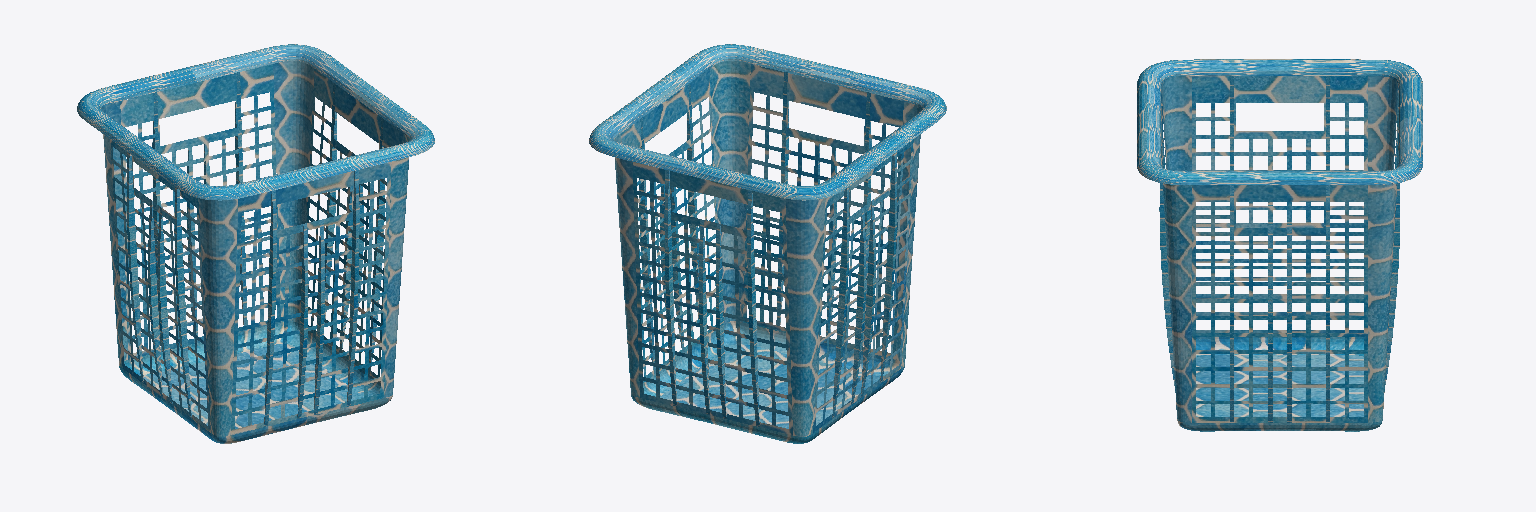
3 renders of one model, left to right at view 1: azimuth 30°, elevation 25°; view 2: azimuth 150°, elevation 25°; view 3: azimuth 270°, elevation 25°, orthographic.
Parts seen in each view (by area): view 1: Basket; view 2: Basket; view 3: Basket.
Boxes of the visible parts, x1=… form: Basket: x1=77, y1=44, x2=434, y2=443; Basket: x1=589, y1=44, x2=946, y2=443; Basket: x1=1137, y1=59, x2=1422, y2=431.
Bounding box in the file's own units: 19.48 × 20.93 × 19.48.
1 materials, 1 textured.